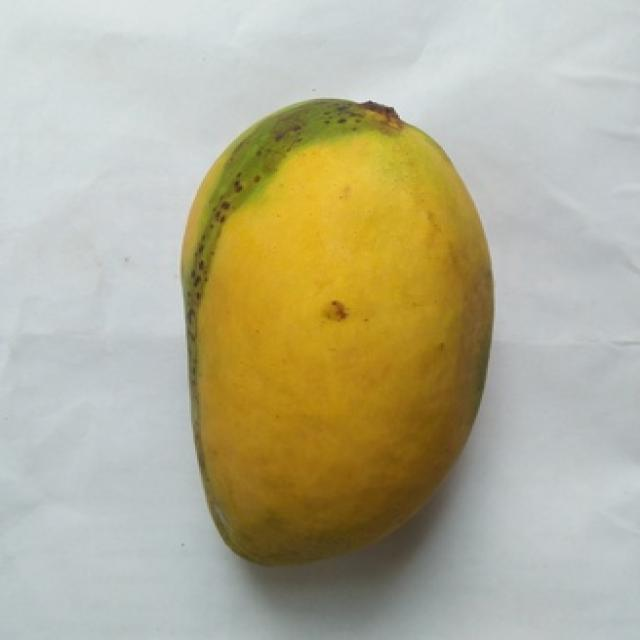Mango: (185, 101, 492, 562)
